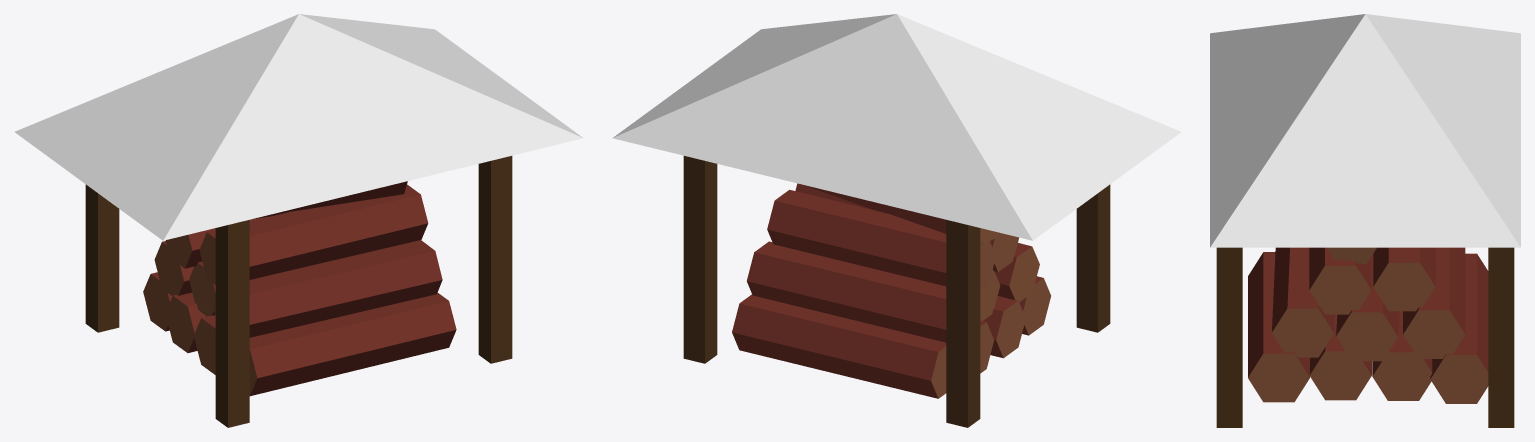
Rendered from Sawmill.fbx.
3 renders of one model, left to right at view 1: azimuth 30°, elevation 25°; view 2: azimuth 150°, elevation 25°; view 3: azimuth 270°, elevation 25°, orthographic. The views are drawn at different scales.
Parts seen in each view (by area): view 1: Cone, Cylinder.009; view 2: Cone, Cylinder.009; view 3: Cone, Cylinder.009.
Part boxes in pixels (x1,y1,x2,y2): Cone: [15, 14, 583, 240]; Cylinder.009: [85, 156, 512, 427]; Cone: [612, 14, 1180, 240]; Cylinder.009: [683, 156, 1110, 427]; Cone: [1210, 14, 1520, 247]; Cylinder.009: [1216, 247, 1514, 427].
Bounding box in the file's own units: 1120 × 833 × 686.
